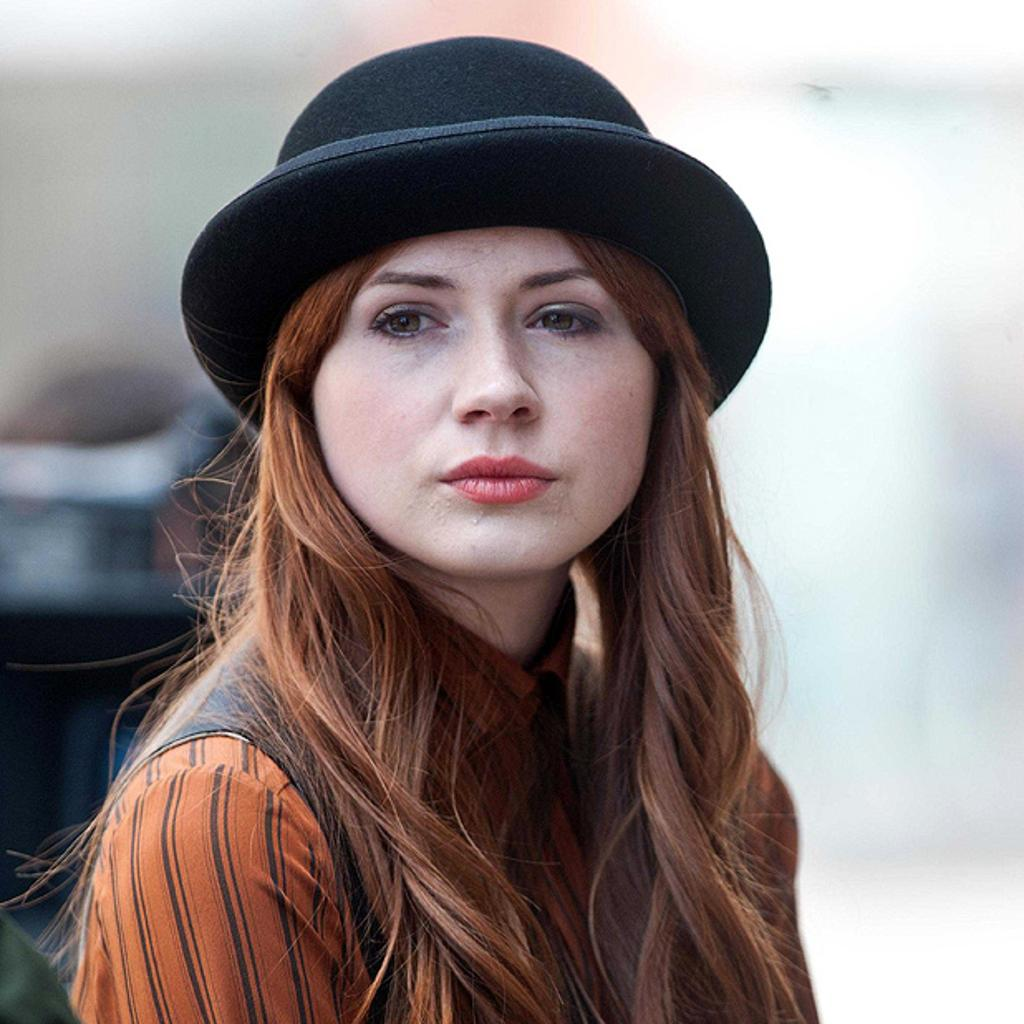face: (312, 220, 656, 574)
